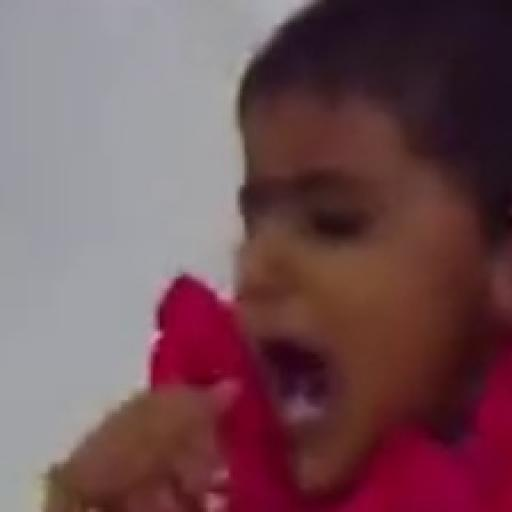Autism: (212, 38, 512, 488)
